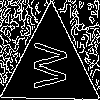W: (25, 41, 67, 91)
